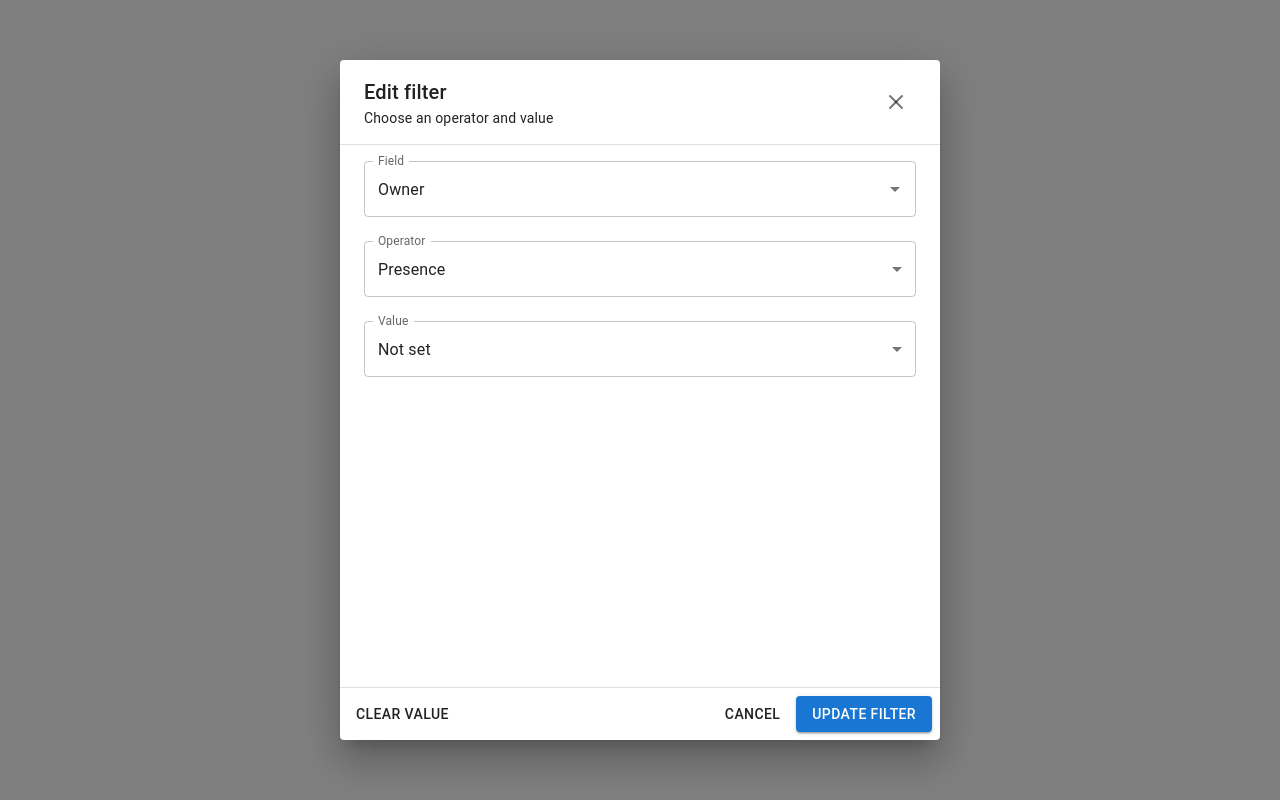
Test: presence filters › edits and submits a missing-value filter for owner using native boolean choices
Expected: the dropdown named "Value" reads "Not set", [378, 340, 431, 358]
Click the button "Update filter". click: [864, 714]
box: [796, 696, 932, 732]
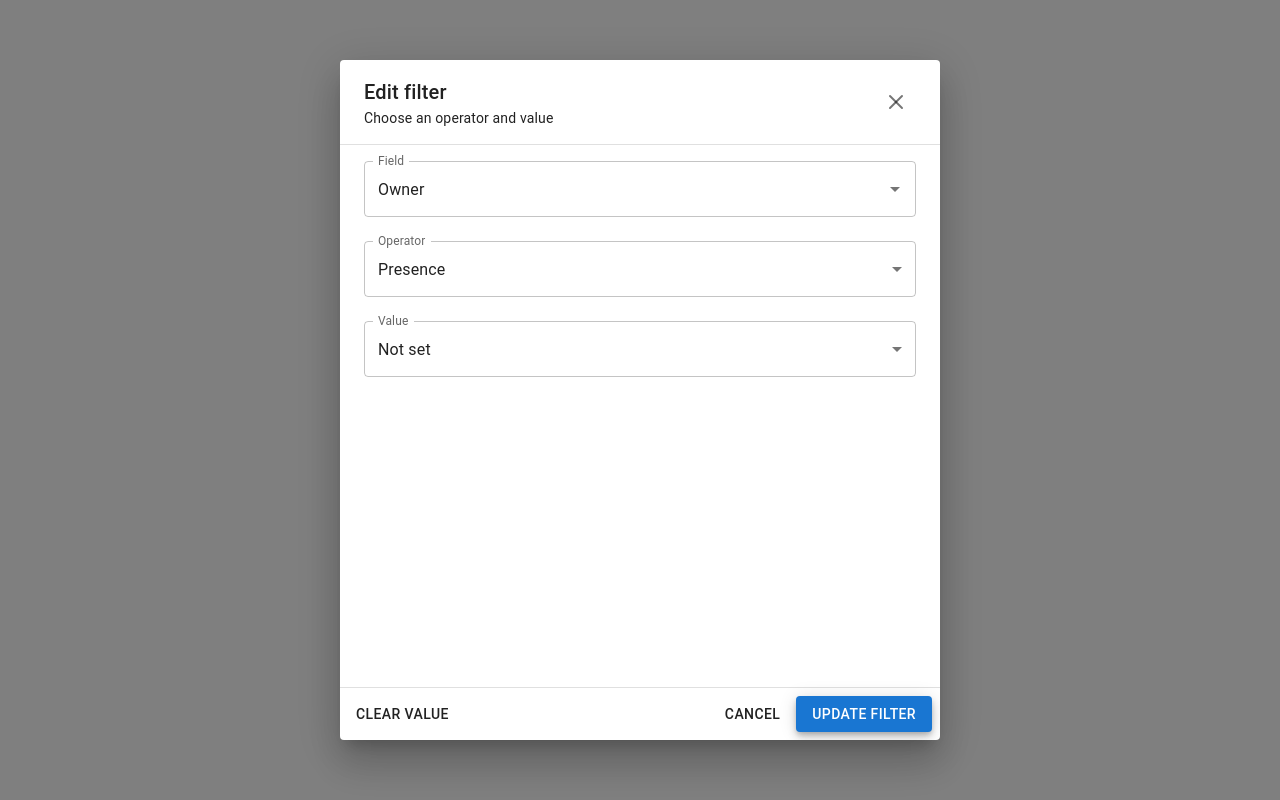
Click the dropdown named "Value". click: [404, 349]
box: [378, 340, 431, 358]
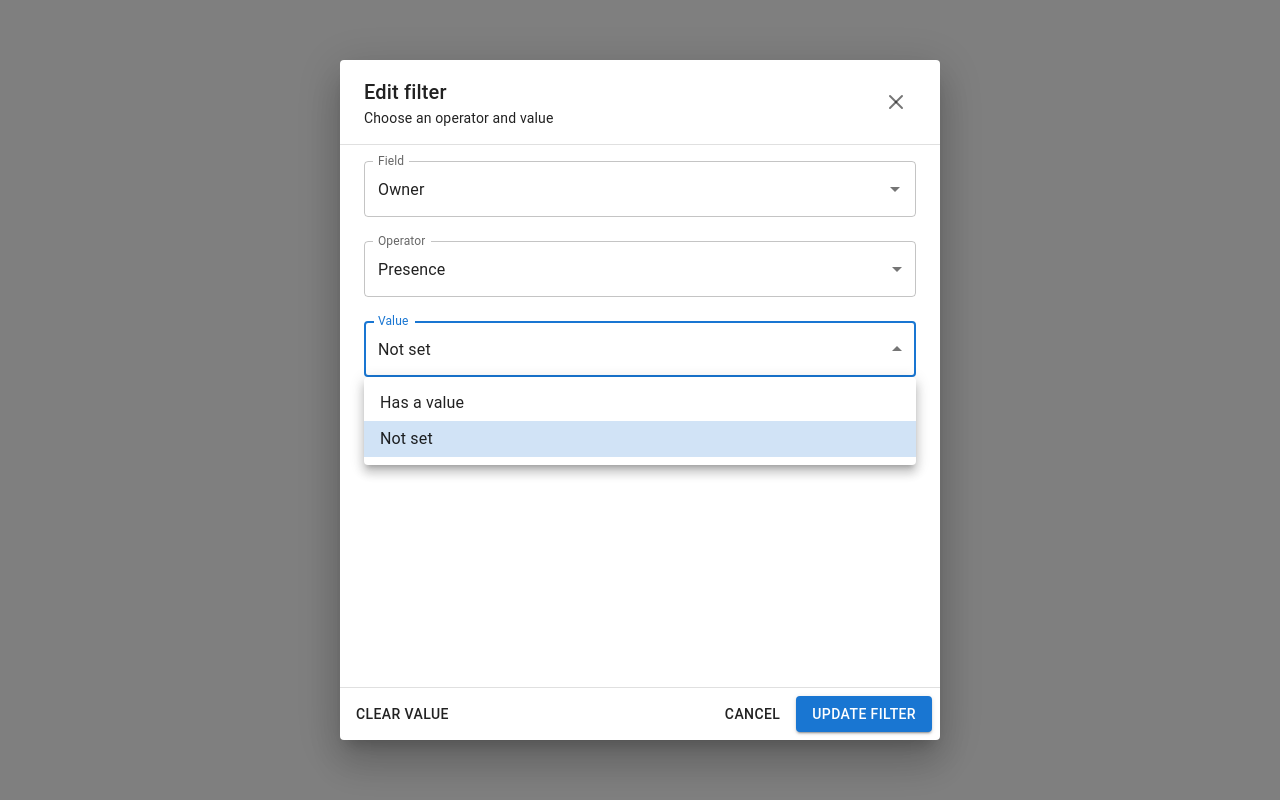
Click the option "Has a value". click: [422, 402]
box: [380, 393, 464, 412]
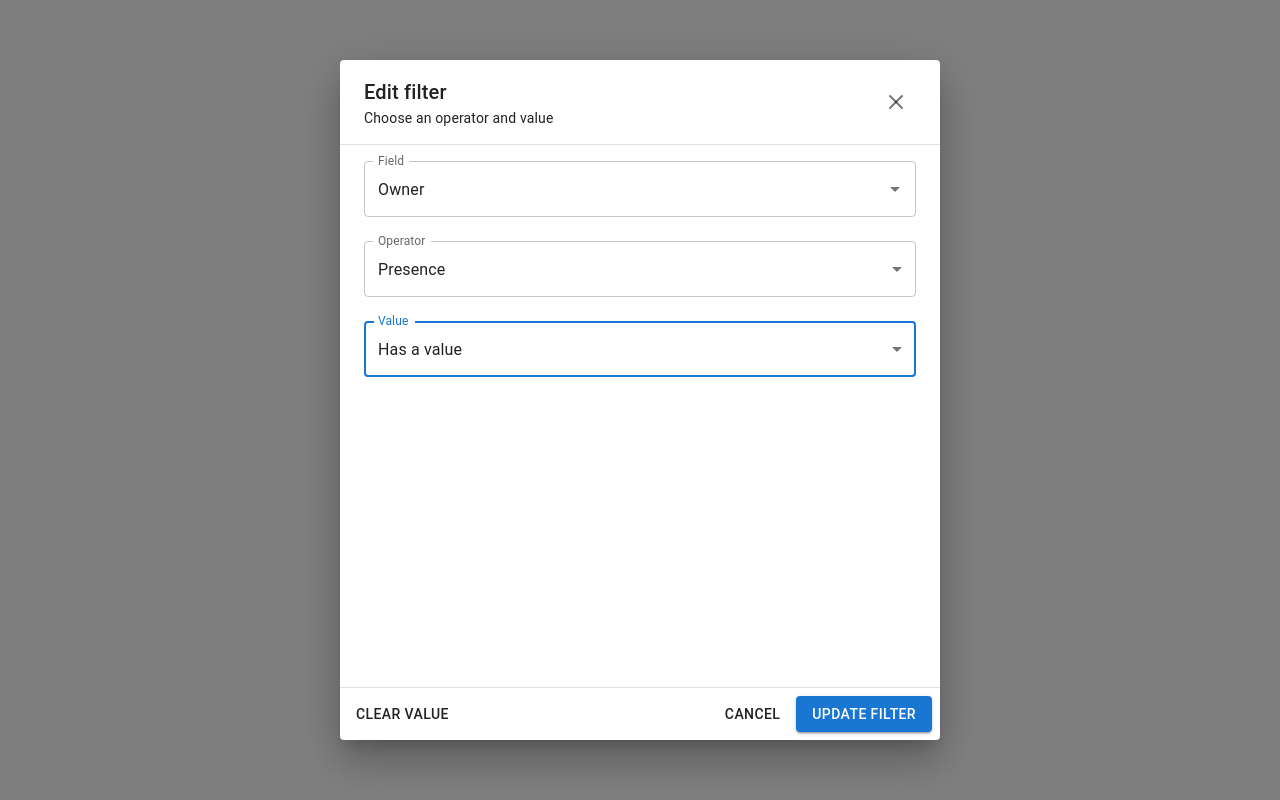
Click the button "Update filter". click: [864, 714]
box: [796, 696, 932, 732]
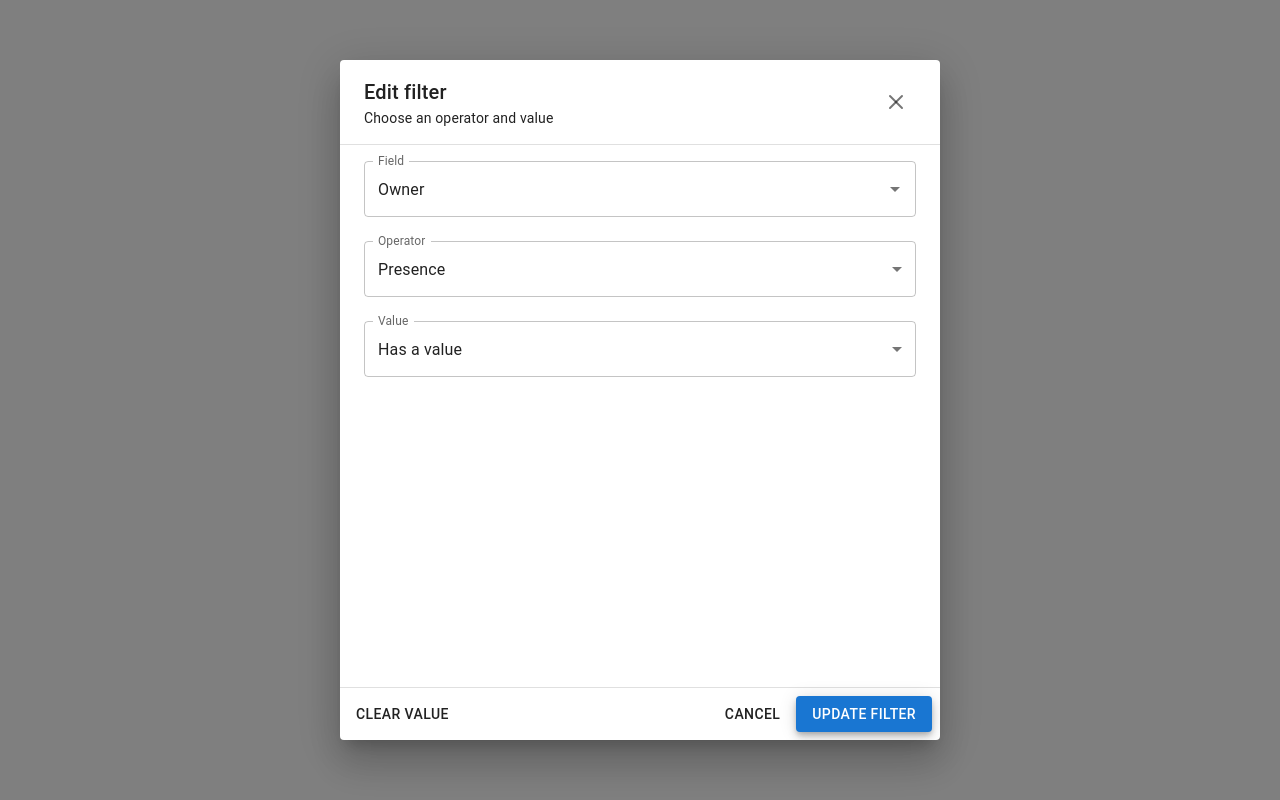
Click the dropdown named "Operator". click: [412, 269]
box: [378, 260, 446, 278]
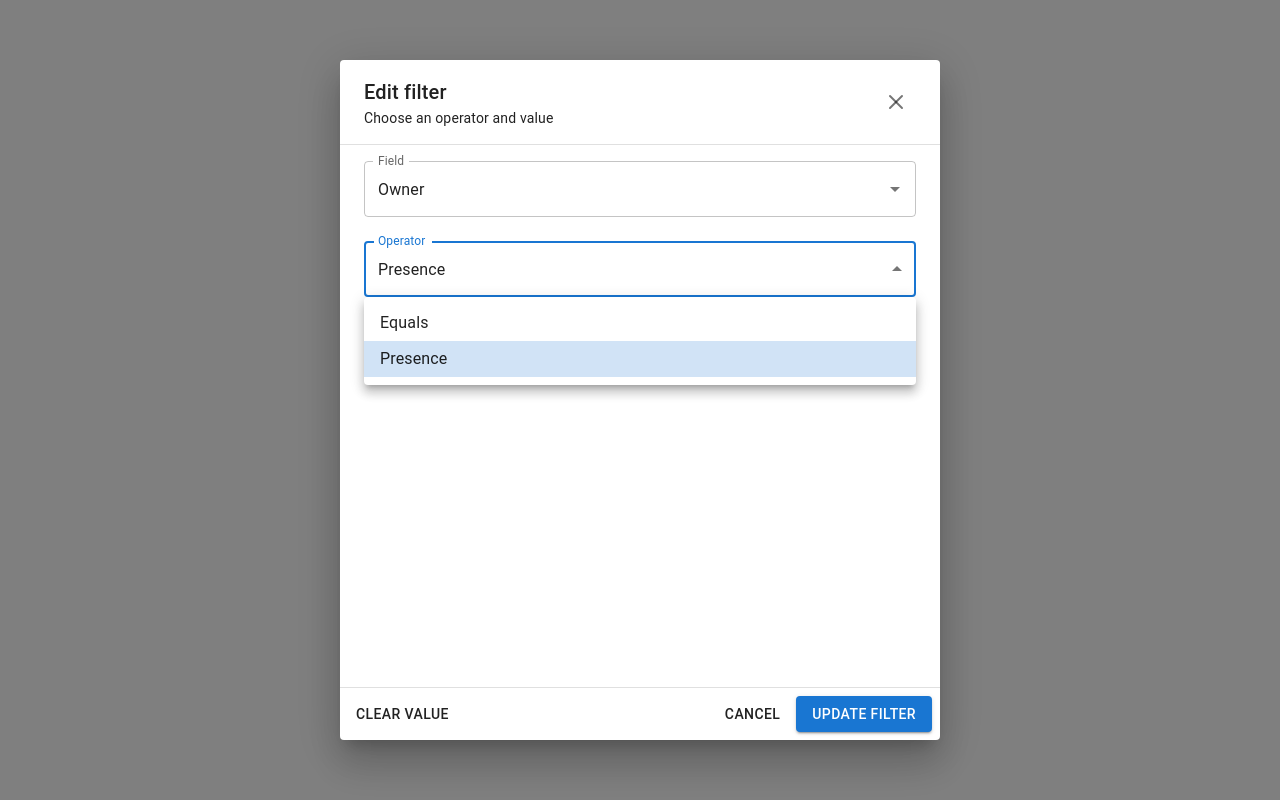
Click the option "Equals". click: [404, 322]
box: [380, 313, 429, 332]
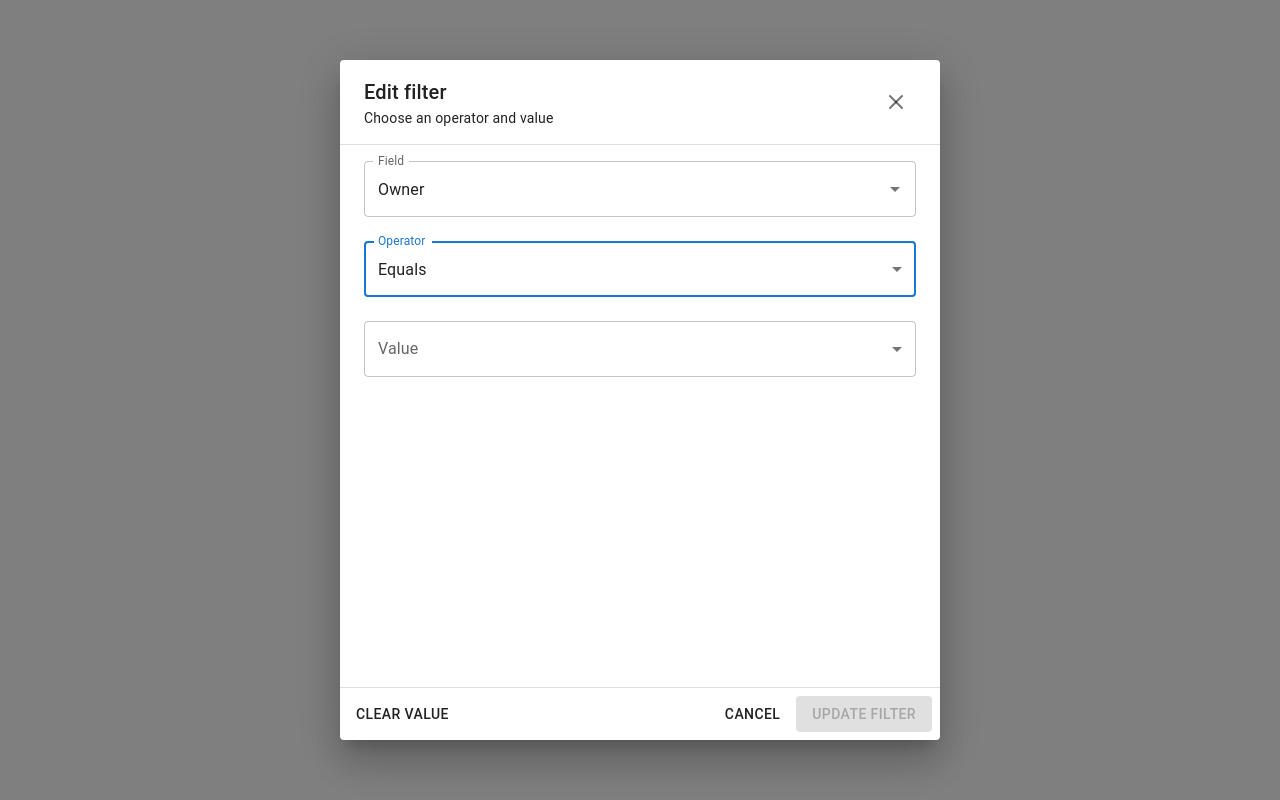
Now the button "Update filter" is disabled, box [796, 696, 932, 732]
